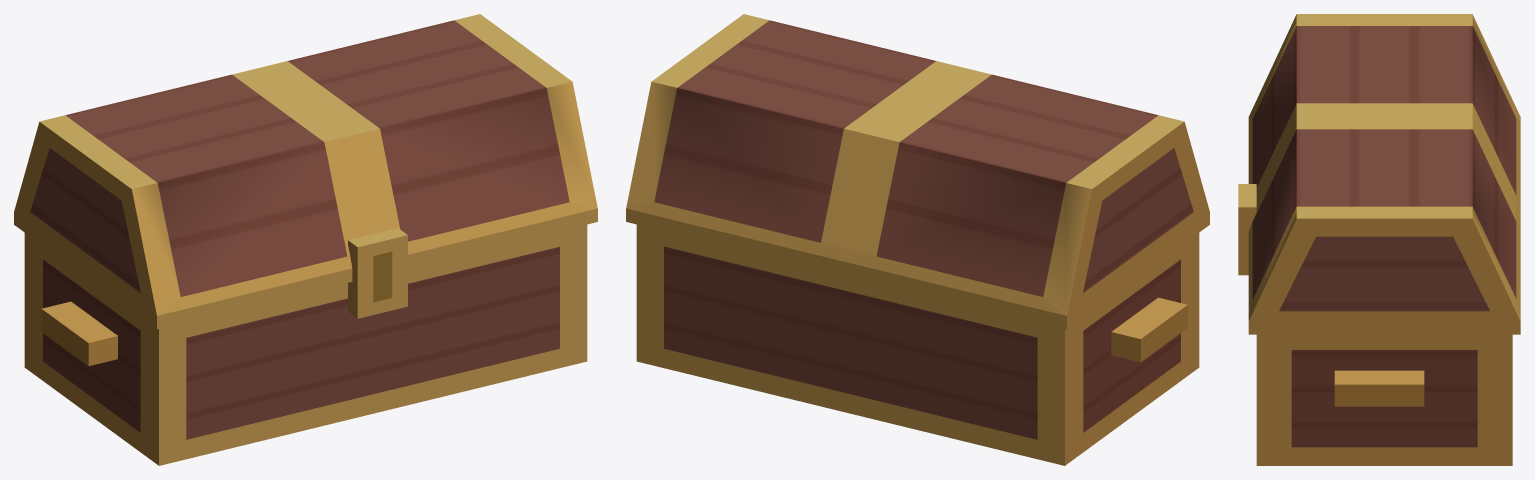
Rendered from SD_Prop_Chest_04.fbx.
3 views of the same model, side by side, from view 1: azimuth 30°, elevation 25°; view 2: azimuth 150°, elevation 25°; view 3: azimuth 270°, elevation 25° (orthographic). The views are drawn at different scales.
Visible parts, largest first — view 1: Chest_Lid, SD_Prop_Chest_04; view 2: Chest_Lid, SD_Prop_Chest_04; view 3: Chest_Lid, SD_Prop_Chest_04.
Boxes of the visible parts, x1,y1,x2,y2 form: Chest_Lid: [14, 14, 597, 329]; SD_Prop_Chest_04: [24, 224, 587, 465]; Chest_Lid: [626, 14, 1209, 329]; SD_Prop_Chest_04: [636, 224, 1199, 465]; Chest_Lid: [1238, 14, 1520, 334]; SD_Prop_Chest_04: [1256, 334, 1512, 465].
Size of the model in its own units: 2.09 by 1.08 by 1.1.
